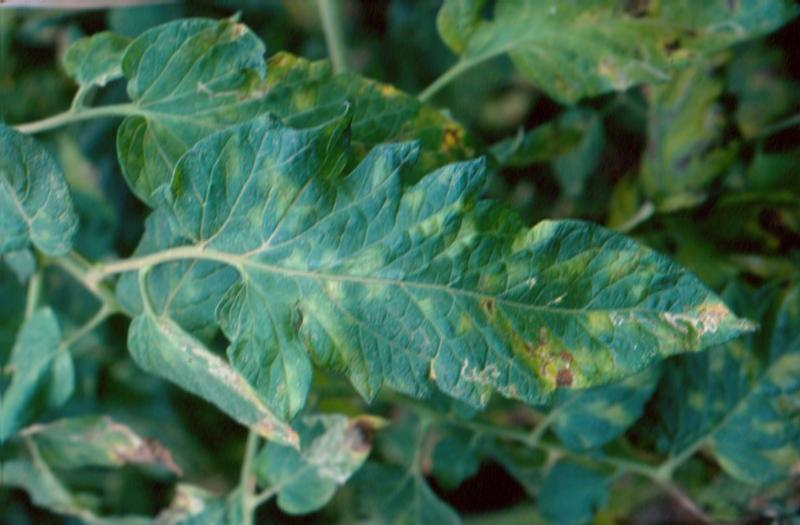Tomato mold leaf: (147, 107, 764, 415)
